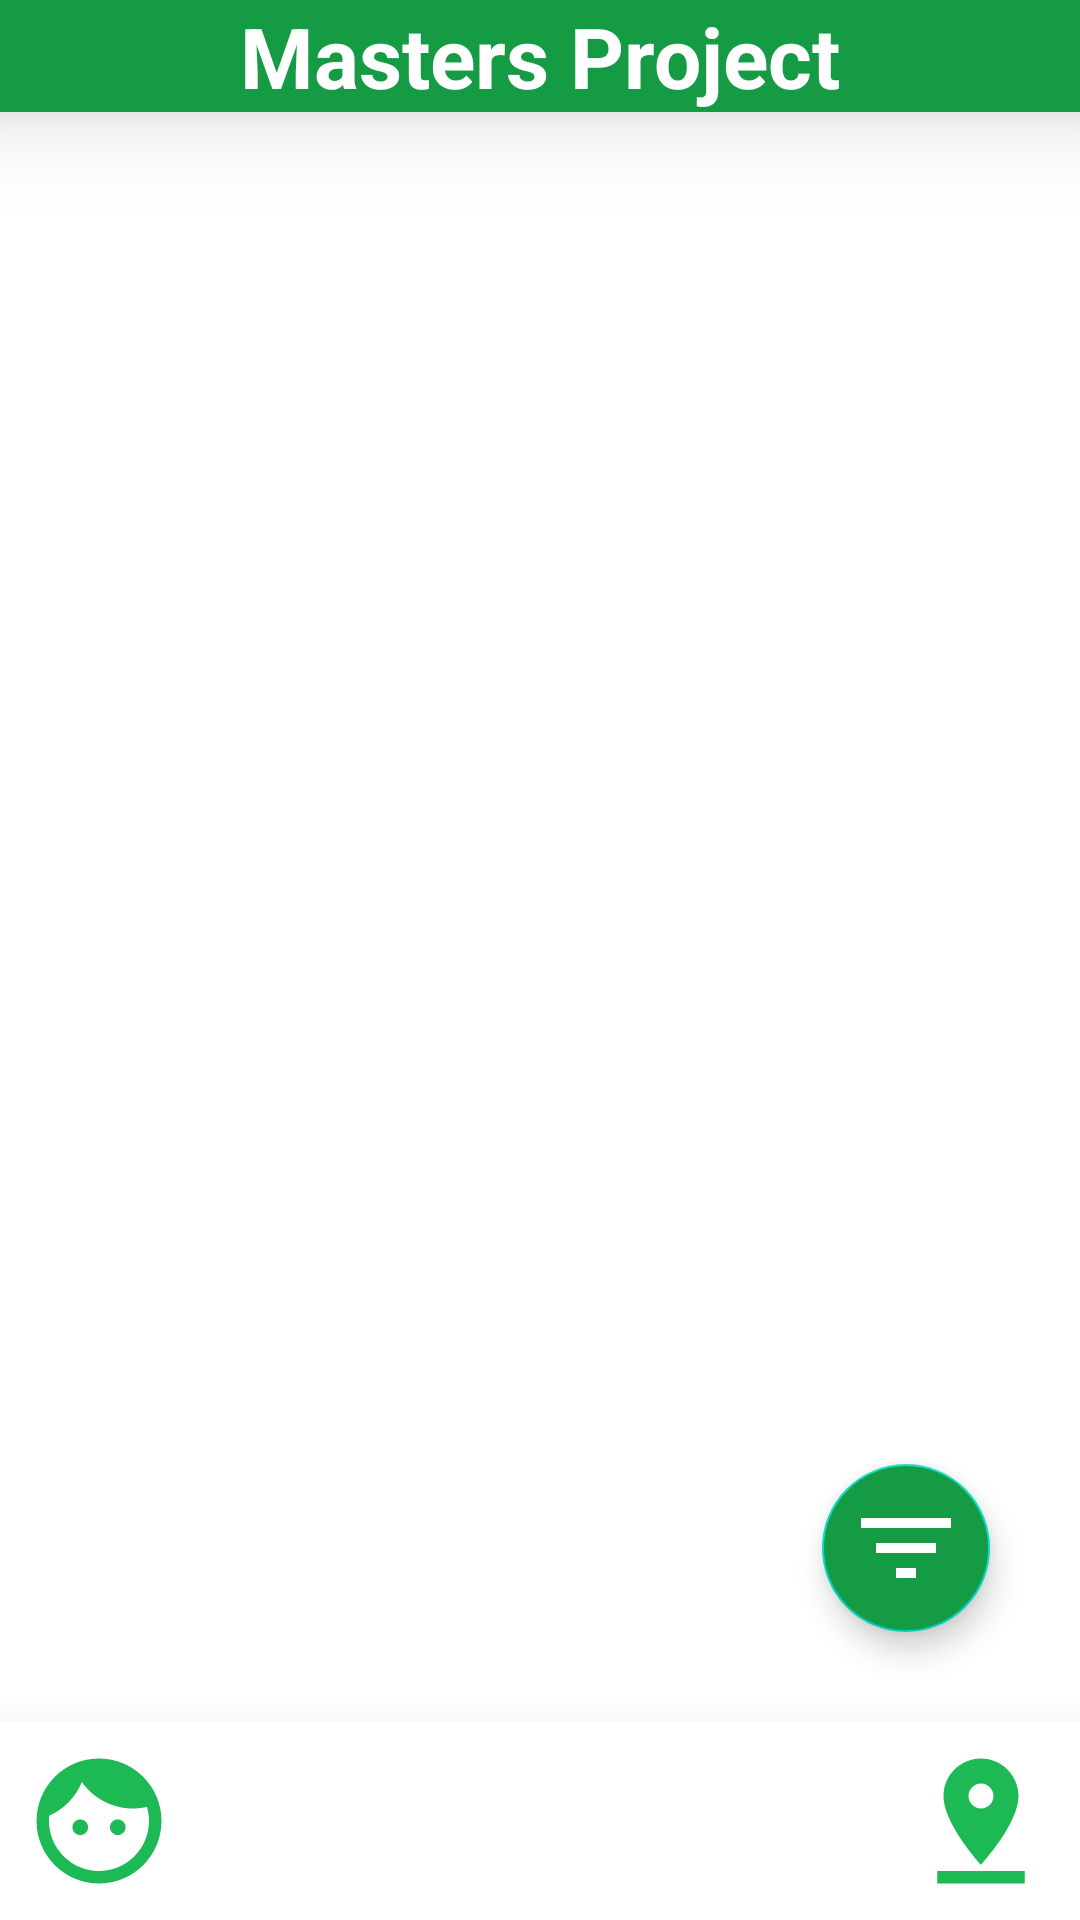

Locate icon controls on the screen. Image size 1080px×1920px, boxes as (x1=x1, y1=y1, x2=x2, y2=y2).
face: (x1=36, y1=1758, x2=162, y2=1884)
filter list: (x1=822, y1=1464, x2=990, y2=1632)
pin drop: (x1=937, y1=1758, x2=1025, y2=1884)
